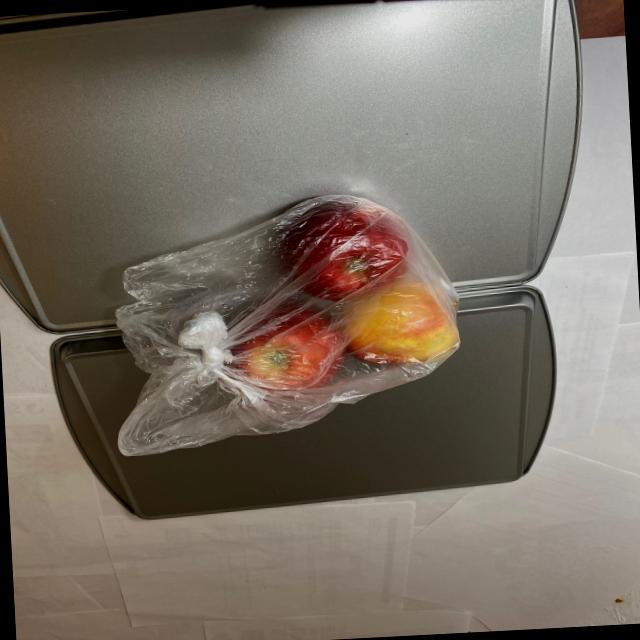apple: (217, 183, 466, 406)
